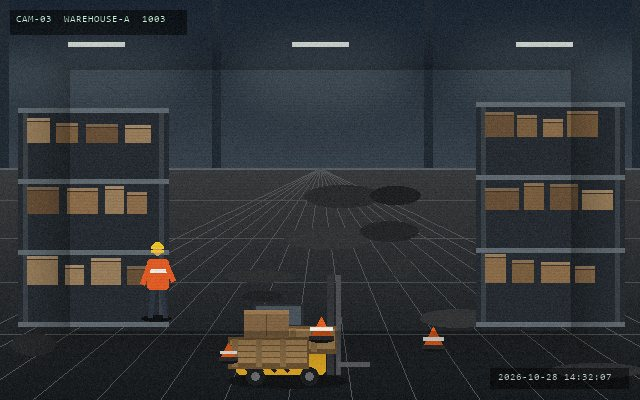cone: (308, 315, 334, 342), (421, 325, 445, 351), (218, 341, 238, 363)
forklift: (232, 273, 371, 388)
pallet: (226, 335, 310, 370), (264, 324, 338, 355)
person: (141, 240, 175, 320)
shelf: (476, 102, 624, 322), (18, 108, 168, 322)
